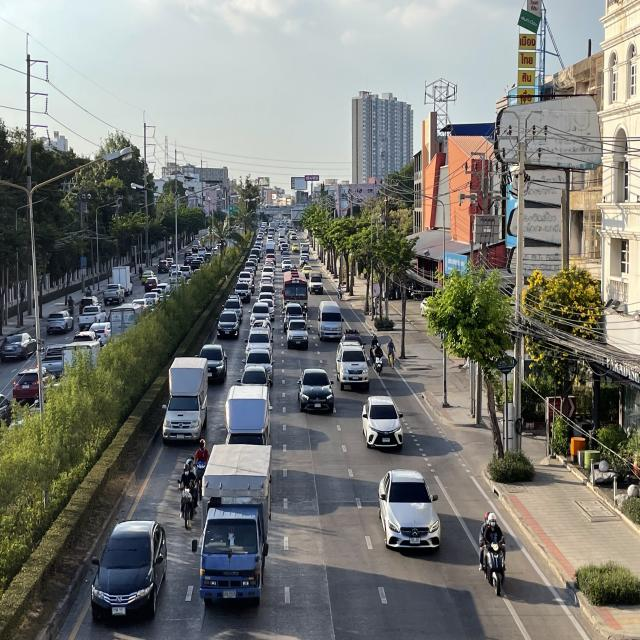bike: (478, 507, 509, 598), (178, 454, 198, 529), (195, 437, 210, 500), (374, 341, 384, 376), (388, 334, 396, 370)
bus: (282, 269, 308, 315)
car: (88, 518, 170, 630), (334, 339, 370, 394), (297, 366, 335, 415), (198, 342, 228, 384), (242, 350, 274, 384), (317, 300, 344, 340), (244, 328, 273, 358), (216, 311, 240, 338)
truck: (191, 445, 274, 610), (162, 356, 210, 444), (225, 384, 272, 448), (287, 312, 309, 349)
